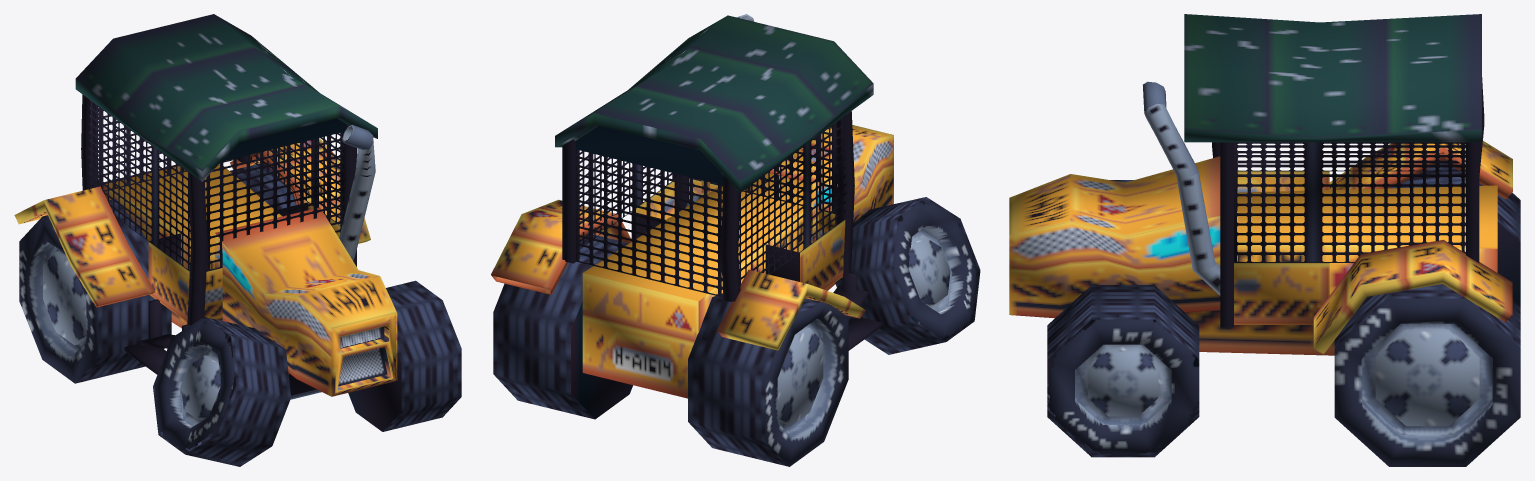
Rendered from TratorQuebrado.fbx.
The picture shows the model from 3 angles, left to right: view 1: azimuth 30°, elevation 25°; view 2: azimuth 150°, elevation 25°; view 3: azimuth 270°, elevation 25°; orthographic projection. The views are drawn at different scales.
Parts seen in each view (by area): view 1: Trator; view 2: Trator; view 3: Trator.
Boxes of the visible parts, left/top/right/bottom form: Trator: left=14, top=14, right=461, bottom=466; Trator: left=491, top=14, right=980, bottom=466; Trator: left=1009, top=14, right=1520, bottom=466.
Bounding box in the file's own units: 365 × 490 × 370.
